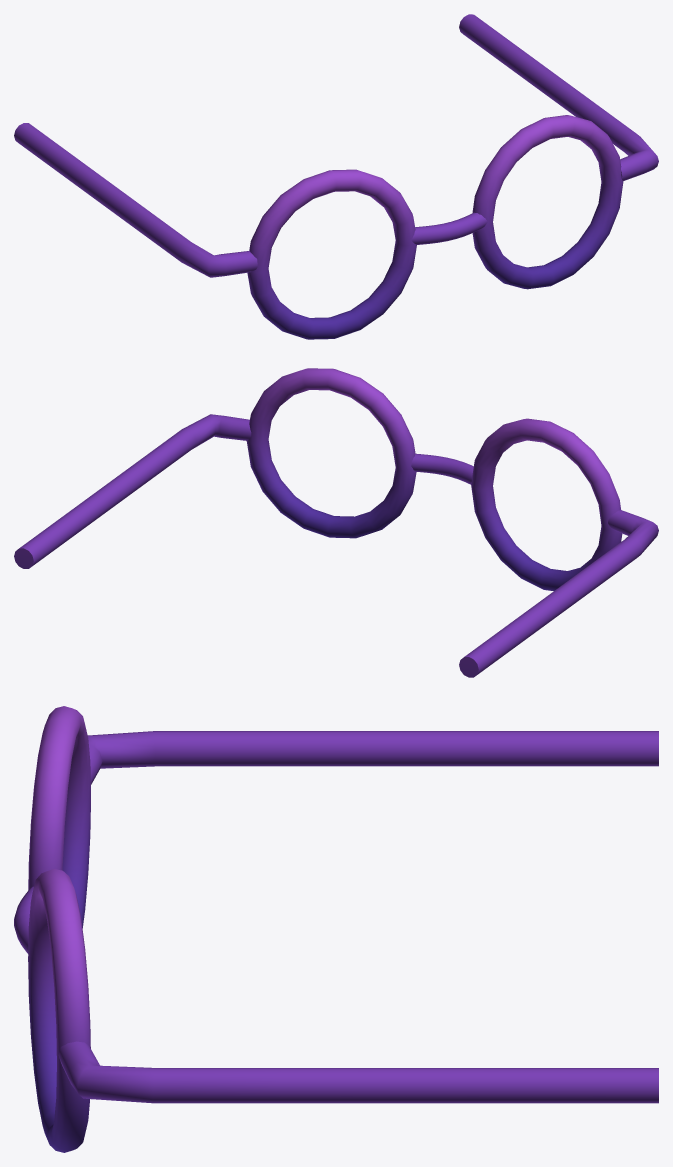
Rendered from glass7.fbx.
3 renders of one model, top to bottom at view 1: azimuth 30°, elevation 25°; view 2: azimuth 150°, elevation 25°; view 3: azimuth 270°, elevation 25°, orthographic. The views are drawn at different scales.
Parts seen in each view (by area): view 1: NurbsPath.014; view 2: NurbsPath.014; view 3: NurbsPath.014.
Part boxes in pixels (x1=…): NurbsPath.014: x1=14, y1=14, x2=658, y2=339; NurbsPath.014: x1=14, y1=368, x2=658, y2=677; NurbsPath.014: x1=14, y1=706, x2=658, y2=1152.
Size of the model in its own units: 183 by 236 by 81.02.
